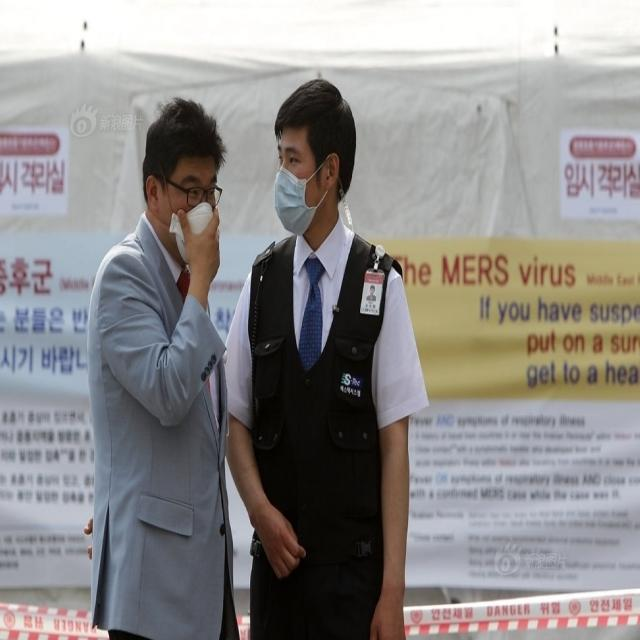mask: (161, 155, 217, 270), (271, 127, 315, 240)
